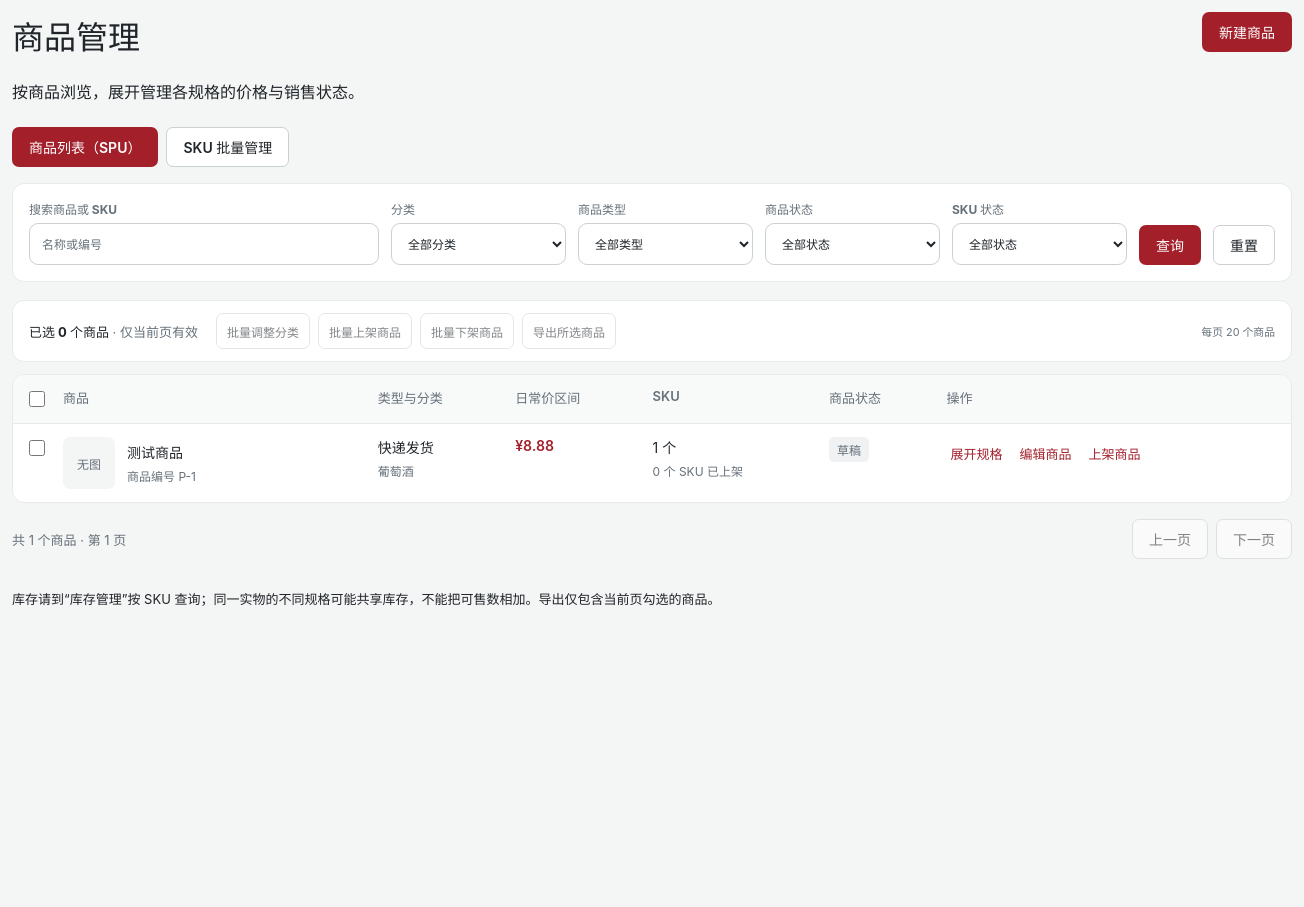
it: focused product workspace › previews category changes by selected SPU IDs without loading SKU details
The width and height of the screenshot is (1304, 907).
Click the checkbox named "选择商品 P-1" at (37, 448), box [29, 440, 45, 456]
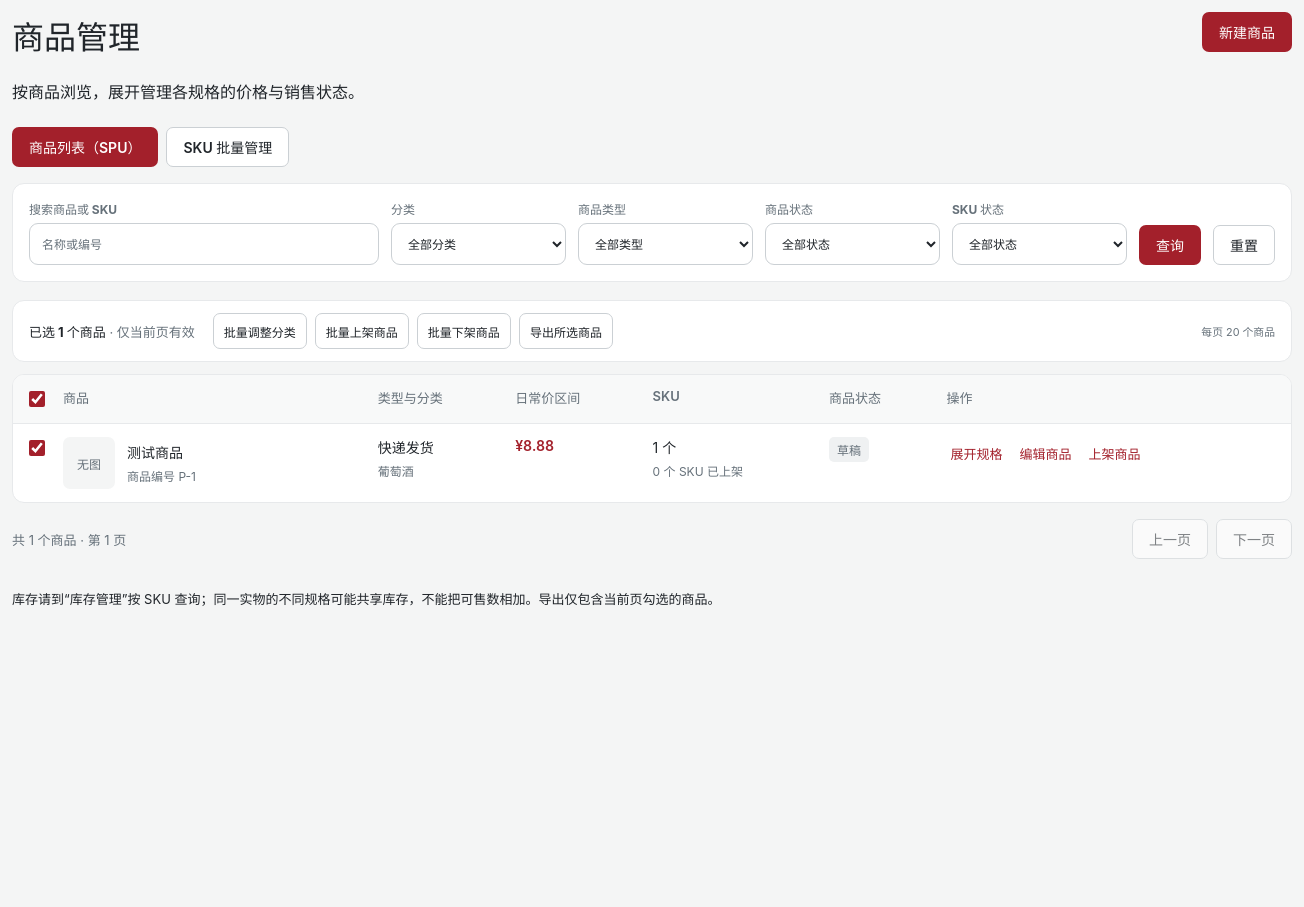
Click the button "批量调整分类" at (260, 331), box [213, 313, 307, 349]
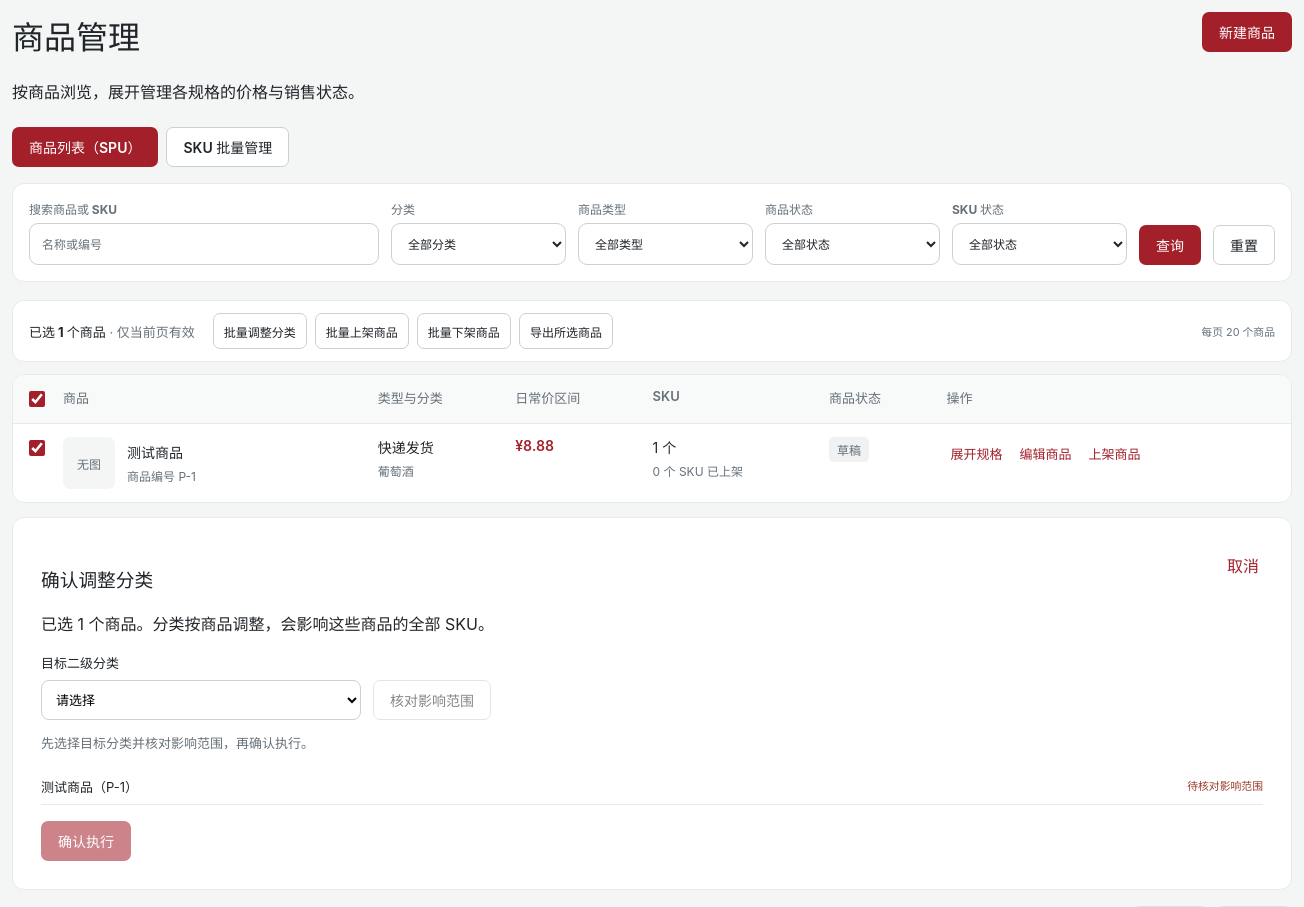
Select "葡萄酒" in the dropdown labelled "目标二级分类" at (201, 700), box [41, 680, 361, 720]
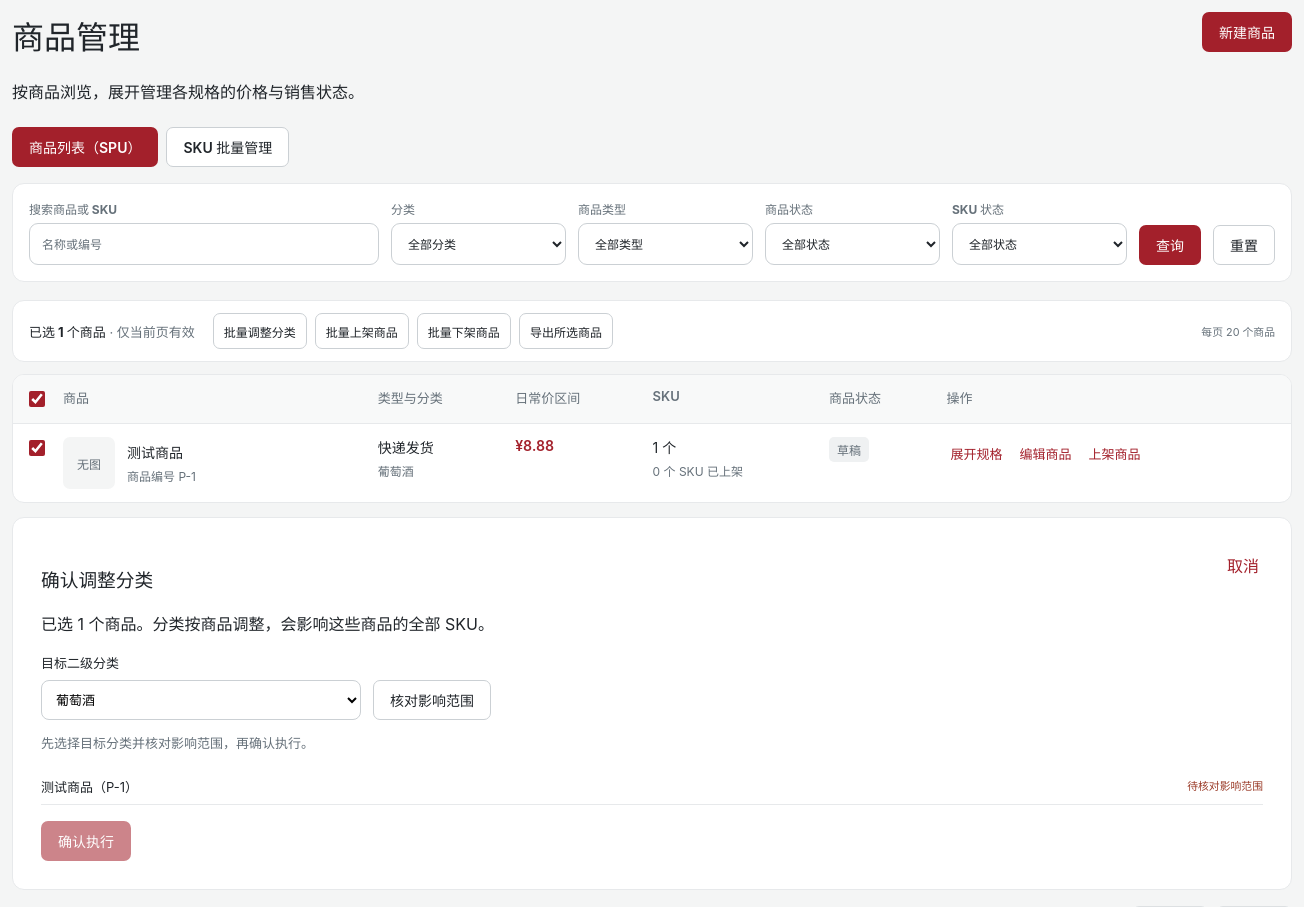
Click the button "核对影响范围" at (432, 700), box [373, 680, 491, 720]
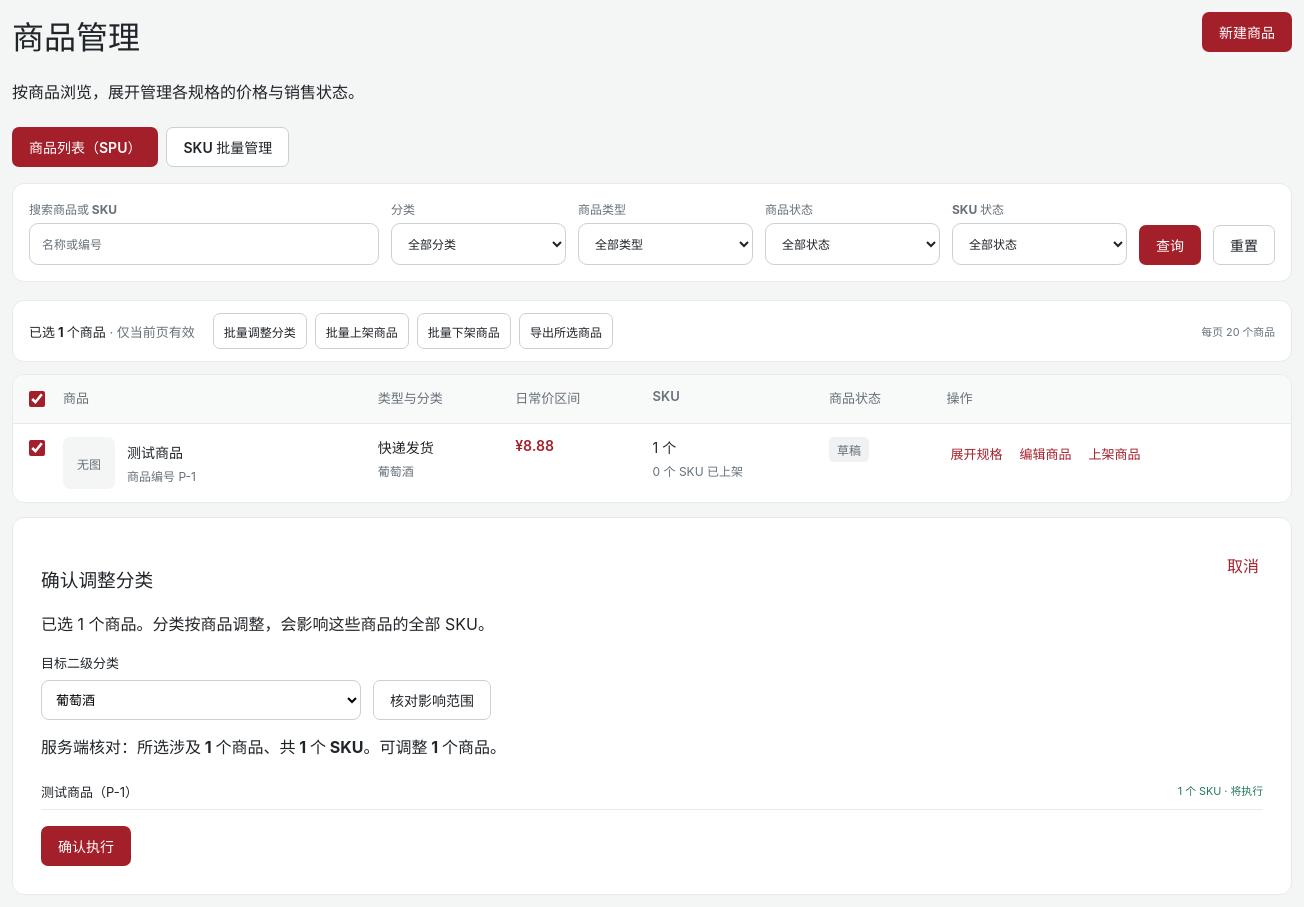
Now the text with class "catalog-impact-summary" shows "1 个商品", box [41, 737, 506, 757]
